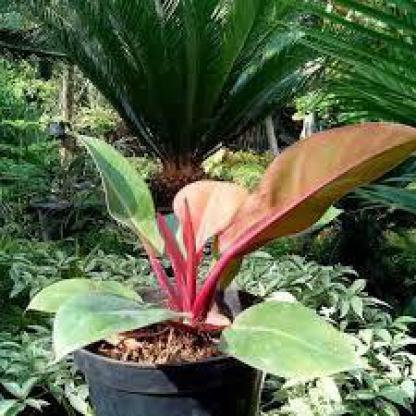Kenanga: (117, 16, 300, 317)
